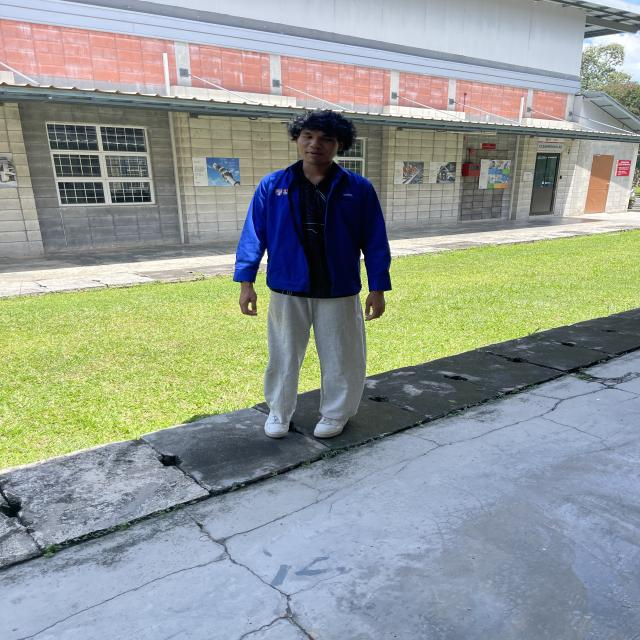person_with_labcoat: (235, 110, 391, 437)
